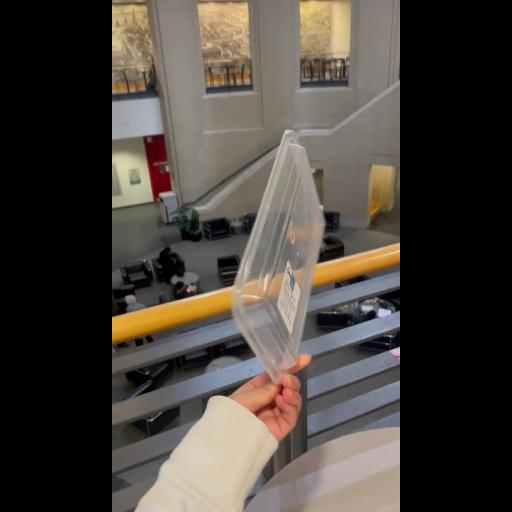rigid_plastic_lid: (228, 125, 340, 379)
